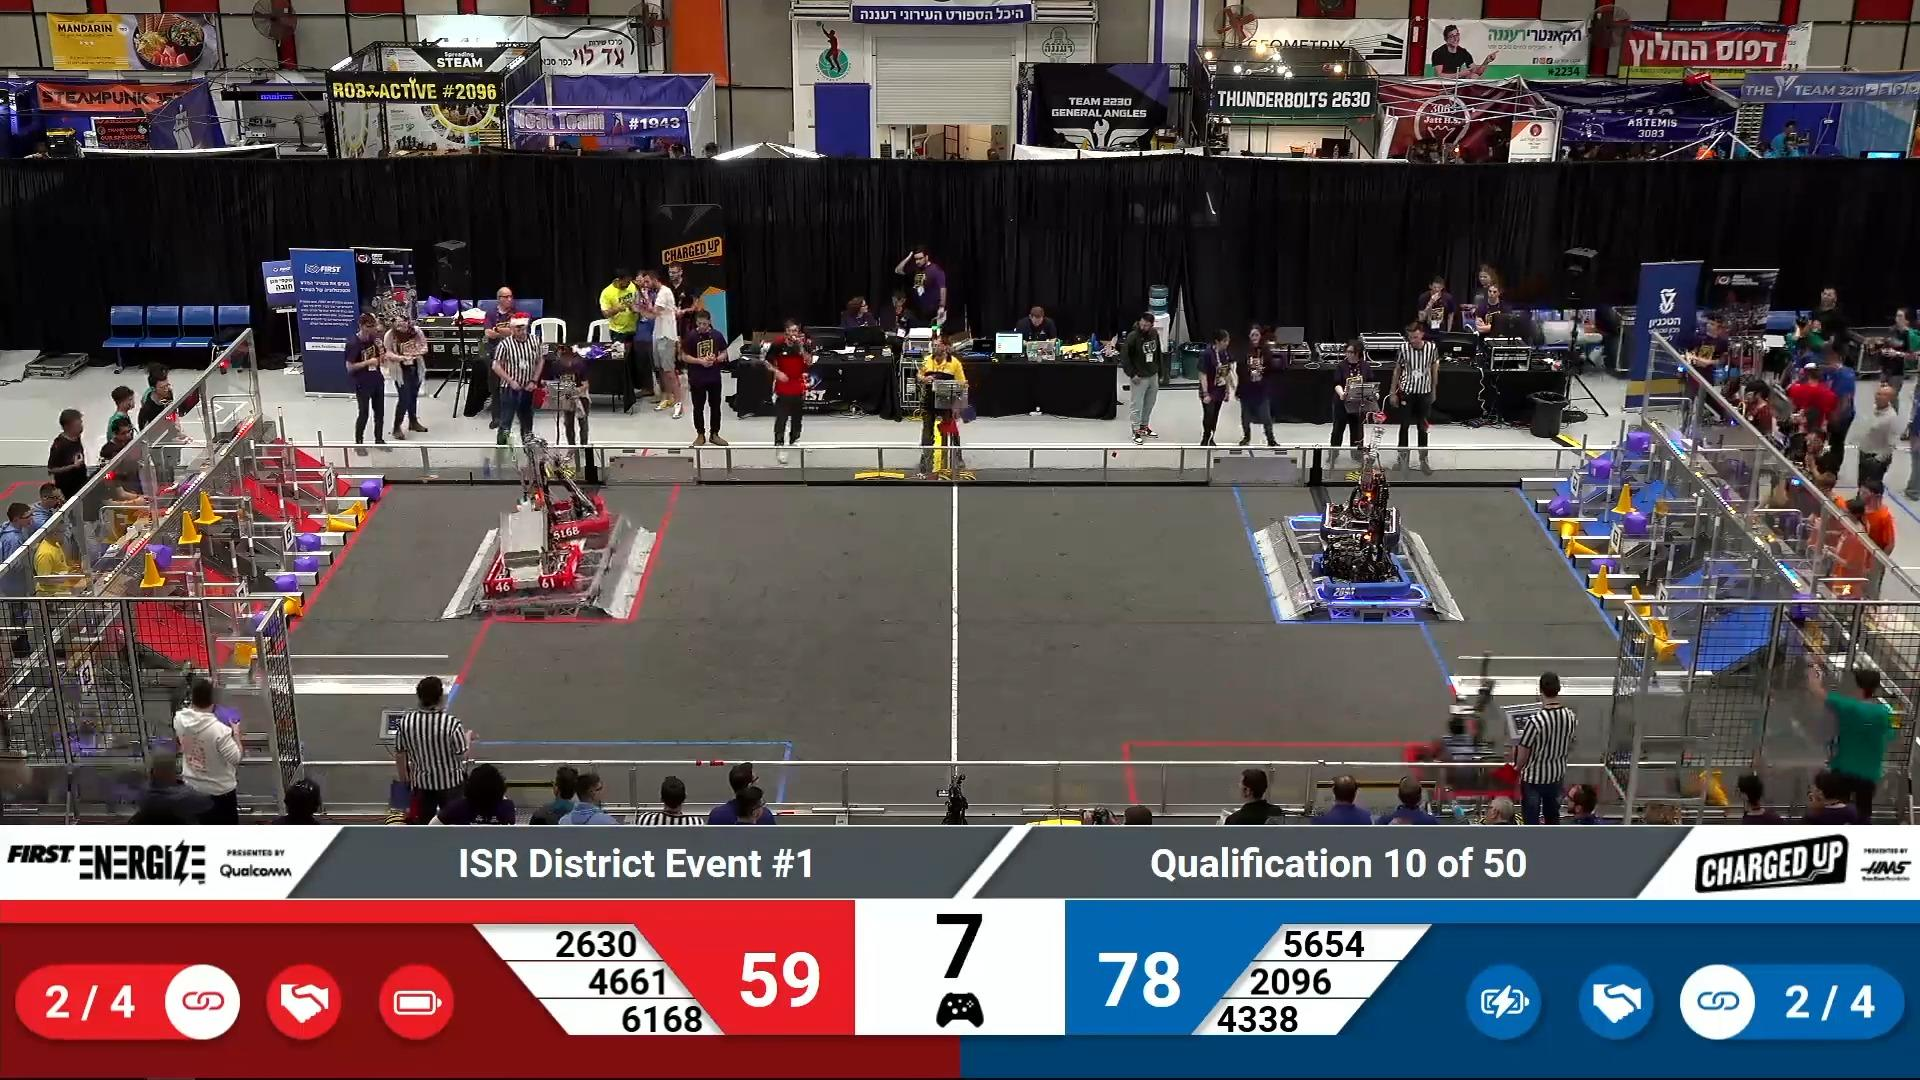robot: (1396, 666, 1528, 804), (513, 435, 615, 542), (481, 510, 580, 592), (1319, 456, 1403, 546), (1303, 538, 1410, 603)
